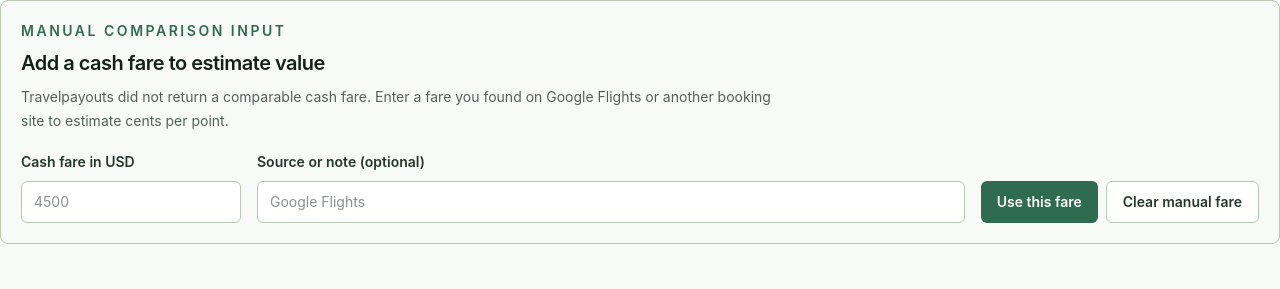
Test: ManualCashFareInput › rejects invalid fare
Click the button "Use this fare" at (1039, 202), box [981, 181, 1098, 223]
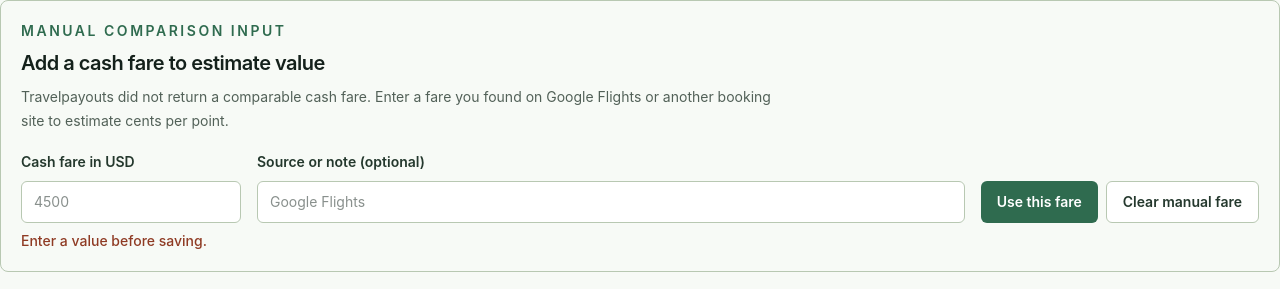
Now the message "Enter a value before saving." is shown, box [21, 232, 207, 249]
